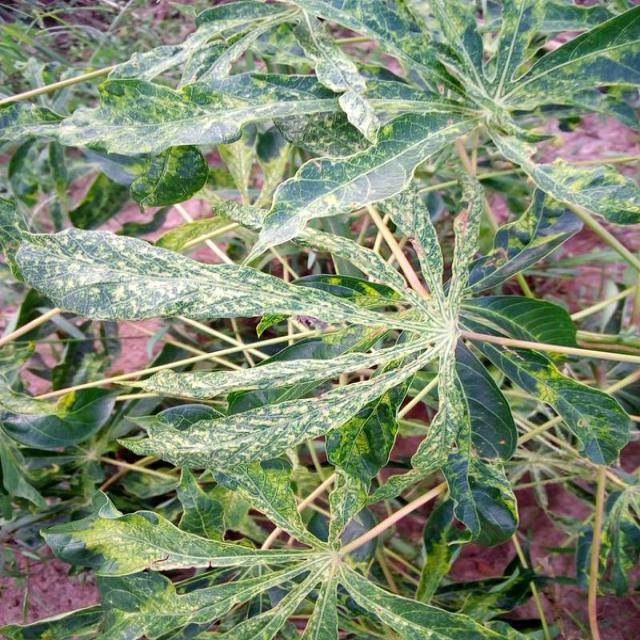cassava leaf: (1, 1, 638, 636), (14, 224, 396, 329)
